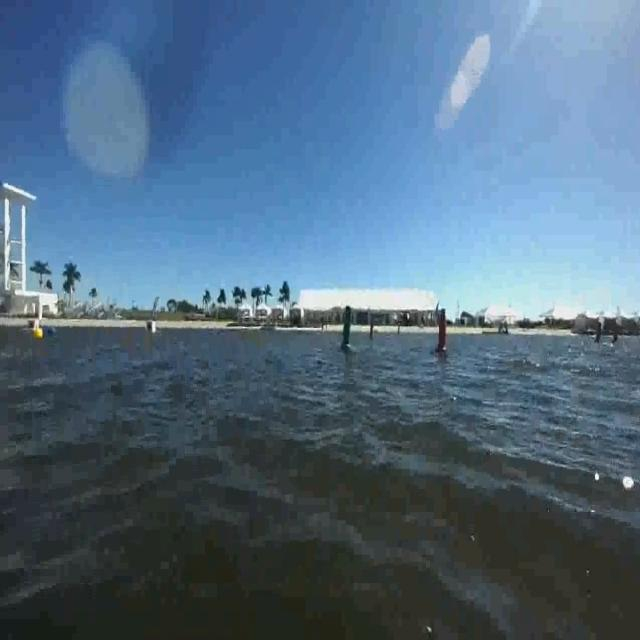green-column-buoy: (342, 287, 354, 358)
red-column-buoy: (437, 303, 453, 362)
yellow-duck: (28, 313, 44, 342)
